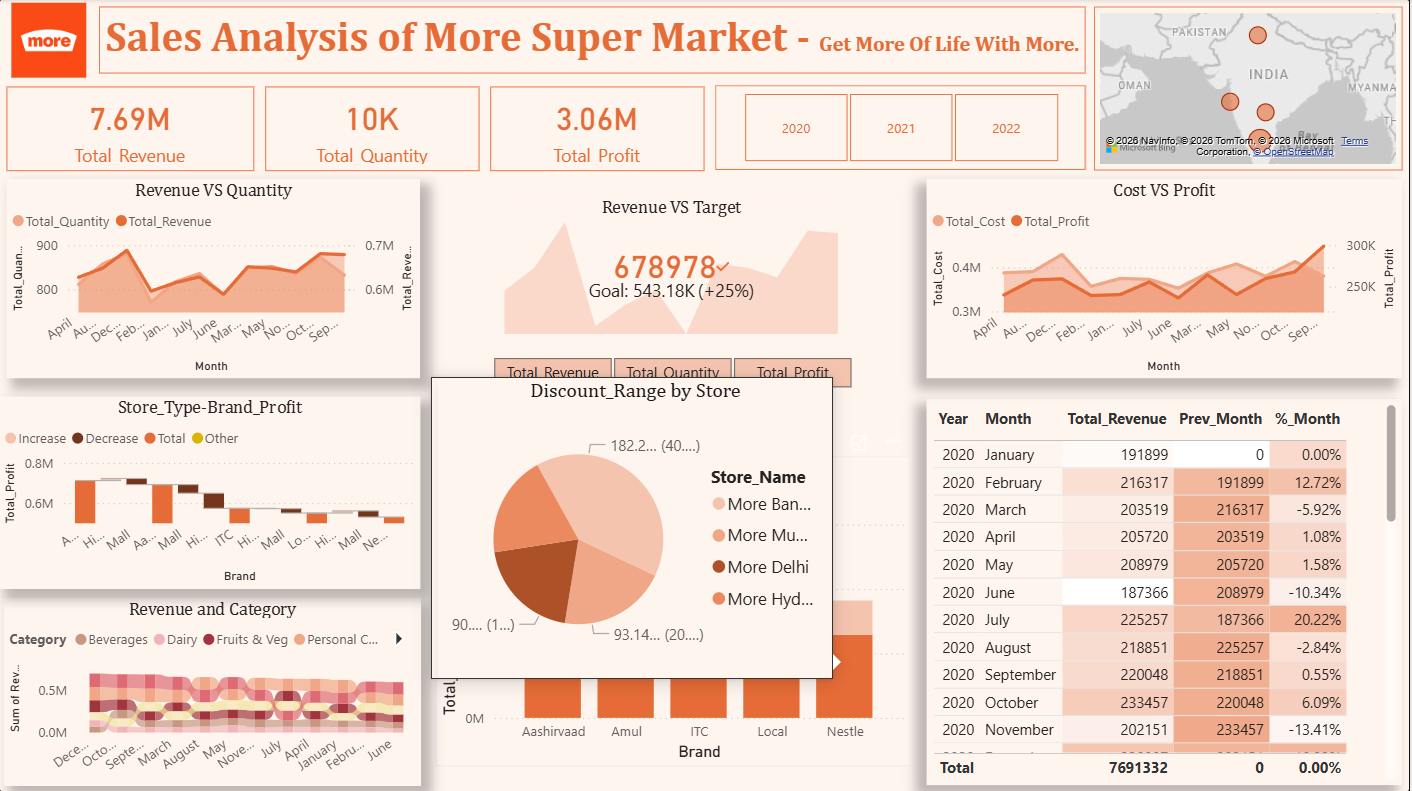

This screenshot's page, from the dashboard's own definition file:
{"tool":"powerbi","page":{"name":"More_Sale_Analysis","canvas":[1280,720],"ordinal":1},"visuals":[{"type":"card","fields":{"Values":["Project_Measures.Toatal_Revenue"]},"box":[7,79.1,224.4,76.7],"z":0},{"type":"card","fields":{"Values":["Project_Measures.Total_Quantity"]},"box":[241.9,79.1,194.2,76.7],"z":1000},{"type":"card","fields":{"Values":["Project_Measures.Total_Profit"]},"box":[445.4,79.1,194.2,76.7],"z":3000},{"type":"tableEx","fields":{"Values":["Dimention_Date.Date.Variation.Date Hierarchy.Year","Dimention_Date.Date.Variation.Date Hierarchy.Month","Project_Measures.Toatal_Revenue","Project_Measures.Prev_Month","Project_Measures.%_Month"]},"box":[841.8,363.1,431.1,350.7],"z":4000},{"type":"areaChart","title":"Revenue VS Quantity ","fields":{"Category":["Dimention_Date.Month"],"Y":["Project_Measures.Total_Quantity"],"Y2":["Project_Measures.Toatal_Revenue"]},"box":[7.1,163.4,375.4,181.1],"z":5000},{"type":"columnChart","title":"Performance->By-City-Brand-Category","fields":{"Category":["Dim_Store.City","Dim_Product.Brand","Dim_Product.Category"],"Y":["Project_Measures.Total_Revenue","Project_Measures.Total_Quantity","Project_Measures.Total_Profit"]},"box":[395.7,415.2,430.2,280.9],"z":6000},{"type":"map","fields":{"Size":["Project_Measures.Toatal_Revenue"],"Category":["Dim_Store.City"]},"box":[993.1,6.8,280.1,148.8],"z":7000},{"type":"areaChart","title":"Cost VS Profit ","fields":{"Category":["Dimention_Date.Month"],"Y2":["Project_Measures.Total_Profit"],"Y":["Project_Measures.Total_Cost"]},"box":[841.8,163.4,431.1,181.1],"z":8000},{"type":"slicer","fields":{"Values":["Dimention_Date.Year"]},"box":[649.9,78.3,335.7,77.1],"z":9000},{"type":"ribbonChart","title":"Revenue  and Category","fields":{"Y":["Sum(Fact_Sales.Revenue)"],"Series":["Dim_Product.Category"],"Category":["Dimention_Date.Month"]},"box":[4.4,543.3,378.1,170.5],"z":10000},{"type":"slicer","fields":{"Values":["Y_Axis.Y_Axis"]},"box":[422.7,319.1,374.5,40.9],"z":11000},{"type":"slicer","fields":{"Values":["X_Axis.X_Axis"]},"box":[444.6,363,322.1,38.6],"z":12000},{"type":"waterfallChart","title":"Store_Type-Brand_Profit","fields":{"Y":["Project_Measures.Total_Profit"],"Category":["Dim_Product.Brand"],"Breakdown":["Dim_Store.Store_Type"]},"box":[0,360.4,382.5,174],"z":13000},{"type":"kpi","title":"Revenue VS Target ","fields":{"Indicator":["Project_Measures.Total_Revenue"],"Goal":["Project_Measures.Target"],"TrendLine":["Dimention_Date.Month"]},"box":[453.6,179.1,312.7,130],"z":14000},{"type":"image","box":[0,3.9,90.5,68.1],"z":15000},{"type":"textbox","box":[90.9,7.3,895.5,60.9],"z":16000}]}

Visuals, with their boxes in screenshot pixels (x1, y1, x2, y2), scaled from the page's 1280x720 canvas onto the 1412x791 screenshot:
card - Project_Measures.Toatal_Revenue: crop(8, 87, 255, 171)
card - Project_Measures.Total_Quantity: crop(267, 87, 481, 171)
card - Project_Measures.Total_Profit: crop(491, 87, 706, 171)
tableEx - Dimention_Date.Date.Variation.Date Hierarchy.Year x Dimention_Date.Date.Variation.Date Hierarchy.Month: crop(929, 399, 1404, 784)
"Revenue VS Quantity " areaChart: crop(8, 180, 422, 378)
"Performance->By-City-Brand-Category" columnChart: crop(437, 456, 911, 765)
map - Project_Measures.Toatal_Revenue x Dim_Store.City: crop(1096, 7, 1404, 171)
"Cost VS Profit " areaChart: crop(929, 180, 1404, 378)
slicer - Dimention_Date.Year: crop(717, 86, 1087, 171)
"Revenue  and Category" ribbonChart: crop(5, 597, 422, 784)
slicer - Y_Axis.Y_Axis: crop(466, 351, 879, 396)
slicer - X_Axis.X_Axis: crop(490, 399, 846, 441)
"Store_Type-Brand_Profit" waterfallChart: crop(0, 396, 422, 587)
"Revenue VS Target " kpi: crop(500, 197, 845, 340)
image: crop(0, 4, 100, 79)
textbox: crop(100, 8, 1088, 75)
